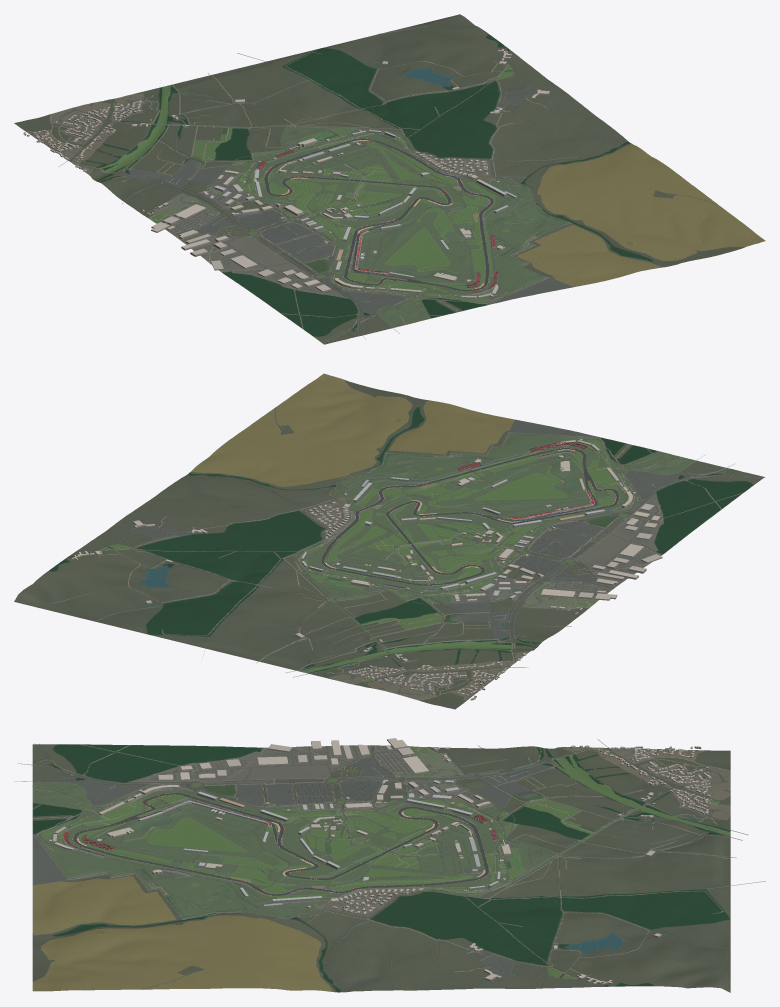
Rendered from silverstone.glb.
The picture shows the model from 3 angles, top to bottom: view 1: azimuth 30°, elevation 25°; view 2: azimuth 150°, elevation 25°; view 3: azimuth 270°, elevation 25°; orthographic projection. The views are drawn at different scales.
Parts seen in each view (by area): view 1: Silverstone_EA_LIDAR_DTM_RealScale, Silverstone_Current_OSM_Buildings, Silverstone_OSM_Safety_Fences_And_Walls, FIA_Silverstone_Centreline_15m, Silverstone_Current_OSM_Mapped_Grandstands; view 2: Silverstone_EA_LIDAR_DTM_RealScale, Silverstone_Current_OSM_Buildings, Silverstone_OSM_Safety_Fences_And_Walls, FIA_Silverstone_Centreline_15m, Silverstone_Current_OSM_Mapped_Grandstands, Silverstone_2026_Official_Additional_Grandstands; view 3: Silverstone_EA_LIDAR_DTM_RealScale, Silverstone_Current_OSM_Buildings, Silverstone_OSM_Safety_Fences_And_Walls, FIA_Silverstone_Centreline_15m, Silverstone_Current_OSM_Mapped_Grandstands, Silverstone_2026_Official_Additional_Grandstands, Silverstone_FIA_Runoff_And_Gravel.
Boxes of the visible parts, x1,y1,x2,y2 form: Silverstone_EA_LIDAR_DTM_RealScale: [14, 14, 765, 344]; Silverstone_Current_OSM_Buildings: [23, 49, 549, 298]; Silverstone_OSM_Safety_Fences_And_Walls: [59, 26, 578, 343]; FIA_Silverstone_Centreline_15m: [264, 138, 493, 291]; Silverstone_Current_OSM_Mapped_Grandstands: [254, 130, 508, 271]; Silverstone_EA_LIDAR_DTM_RealScale: [14, 373, 764, 709]; Silverstone_Current_OSM_Buildings: [71, 438, 662, 700]; Silverstone_OSM_Safety_Fences_And_Walls: [52, 432, 765, 677]; FIA_Silverstone_Centreline_15m: [321, 448, 619, 585]; Silverstone_Current_OSM_Mapped_Grandstands: [301, 477, 605, 590]; Silverstone_2026_Official_Additional_Grandstands: [385, 442, 587, 591]; Silverstone_EA_LIDAR_DTM_RealScale: [32, 744, 730, 992]; Silverstone_Current_OSM_Buildings: [47, 738, 711, 984]; Silverstone_OSM_Safety_Fences_And_Walls: [14, 739, 765, 973]; FIA_Silverstone_Centreline_15m: [73, 793, 488, 895]; Silverstone_Current_OSM_Mapped_Grandstands: [197, 791, 500, 903]; Silverstone_2026_Official_Additional_Grandstands: [63, 814, 496, 875]; Silverstone_FIA_Runoff_And_Gravel: [77, 811, 485, 895].
Size of the model in its own units: 2481 by 45.75 by 3146.
Materials: 23 (1 with a texture image).
